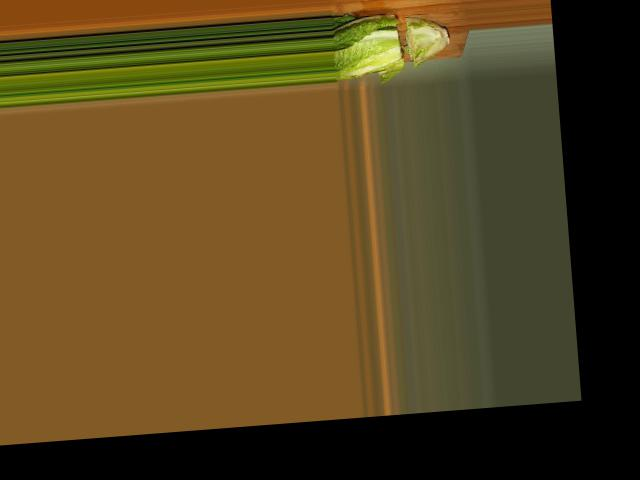lettuce: (332, 2, 451, 83)
